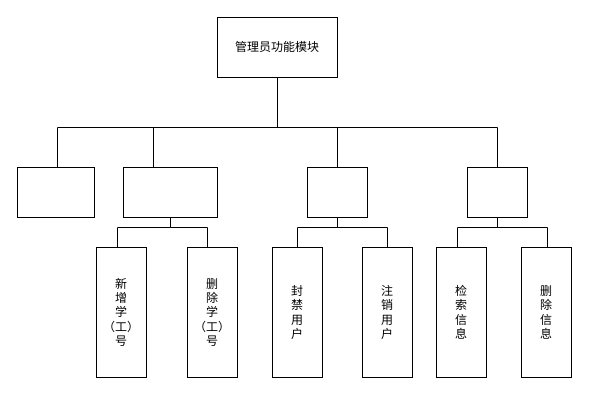
Some shapes in this 589 by 395 pixel diagram are drawn without their labels. Here are the shapes that lost their labels. From the top down, the centre of each, then its label:
At (55,192): "管理员登录".
At (170,192): "学（工）号管理".
At (337,192): "用户管理".
At (497,192): "信息管理".
